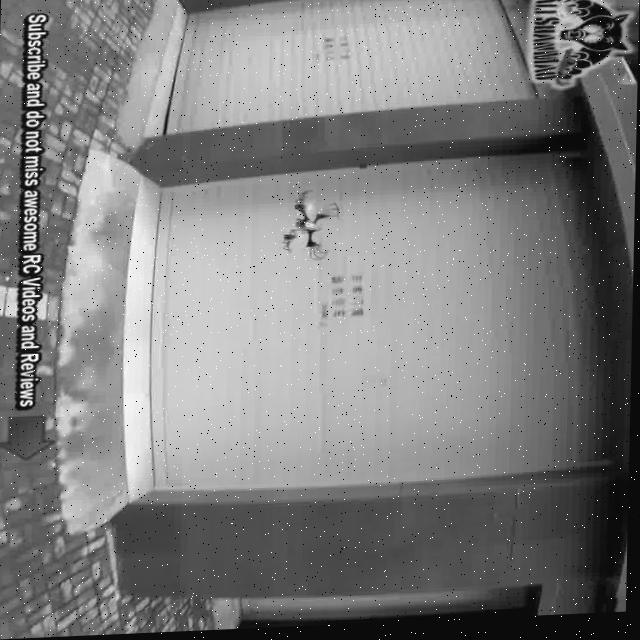drone: (276, 188, 354, 270)
